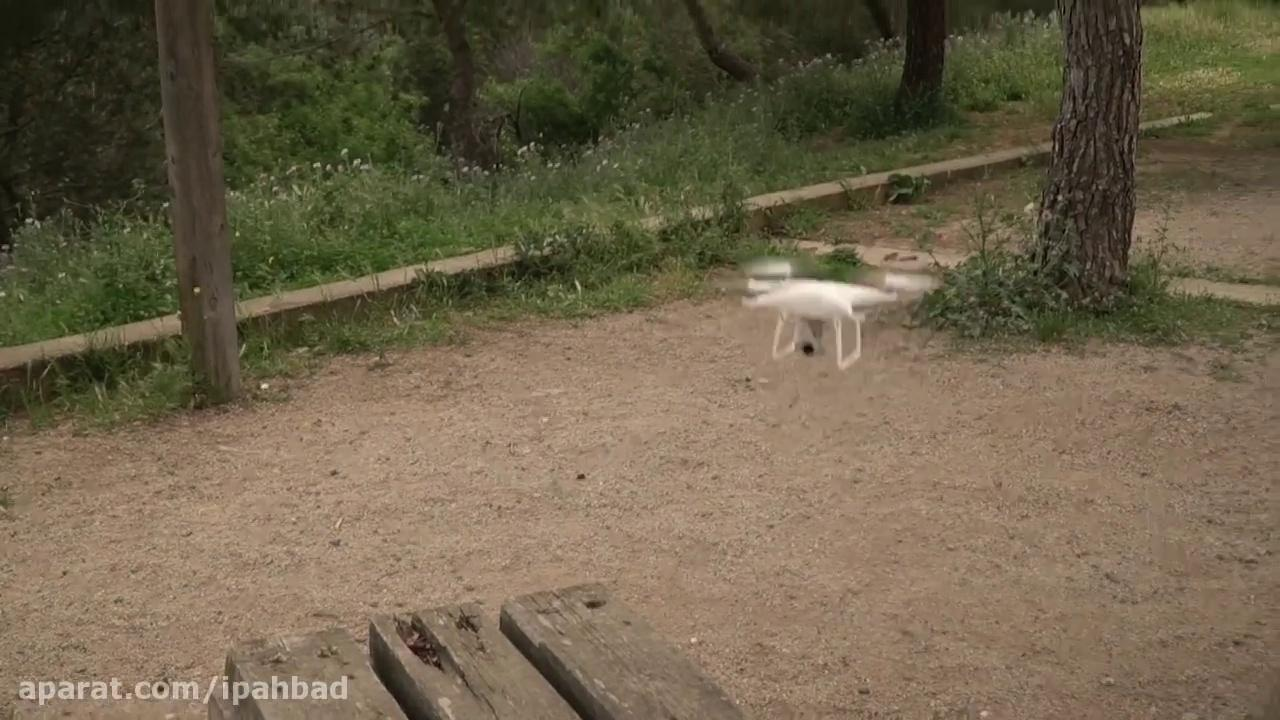drone: (730, 254, 939, 365)
